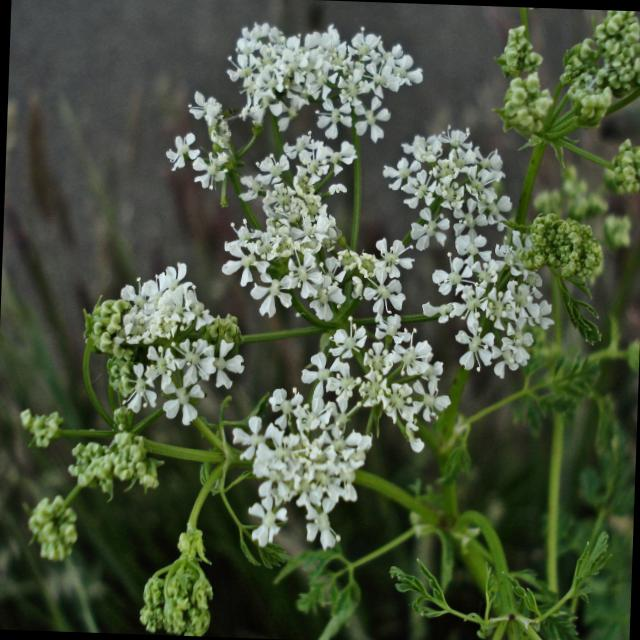Poisonous-Hemlock: (80, 4, 577, 562)
